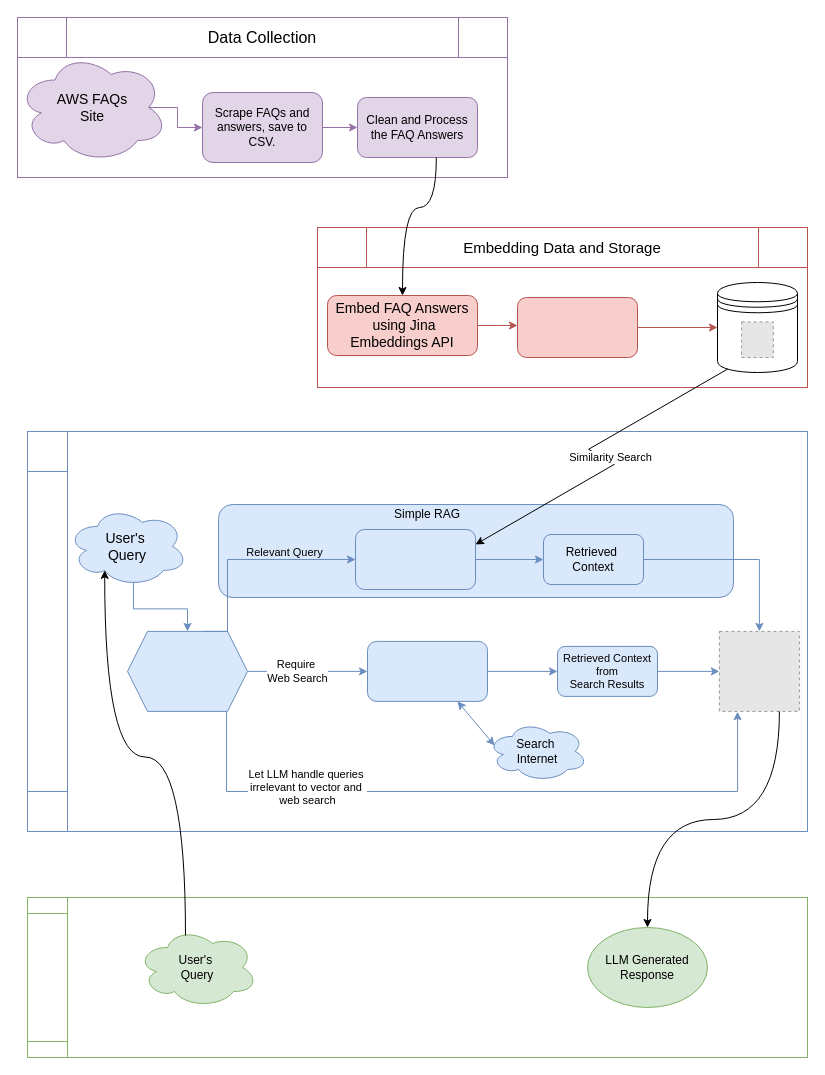
The diagram is 825 pixels wide and 1075 high, and some of its shapes have lost their labels. Grey dashed boxes stand in for pictures. Each missing label, with the centre of its shape:
"Chat Interface" goes at (47,977).
"ChatBot Service" goes at (47,631).
"Query Evaluation" goes at (187,670).
"Retriever Tool" goes at (415,559).
"Tavily Search Tool" goes at (427,670).
"Upsert embeddings with metadata in Pinecone" goes at (577,327).
